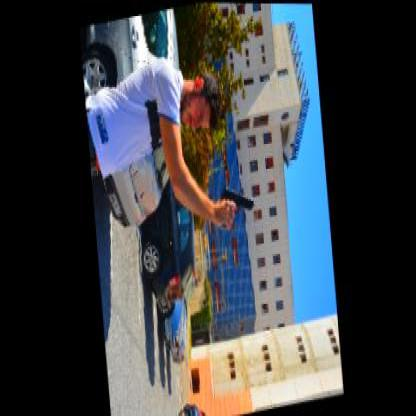pistol: (216, 178, 255, 226)
